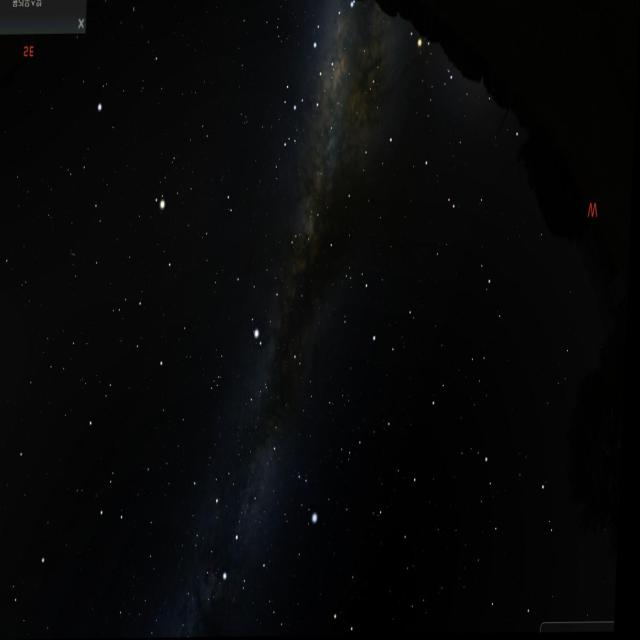aquila: (227, 219, 313, 353)
cygnus: (215, 406, 289, 596)
lyra: (290, 458, 328, 534)
sagittarius: (278, 19, 344, 148)
